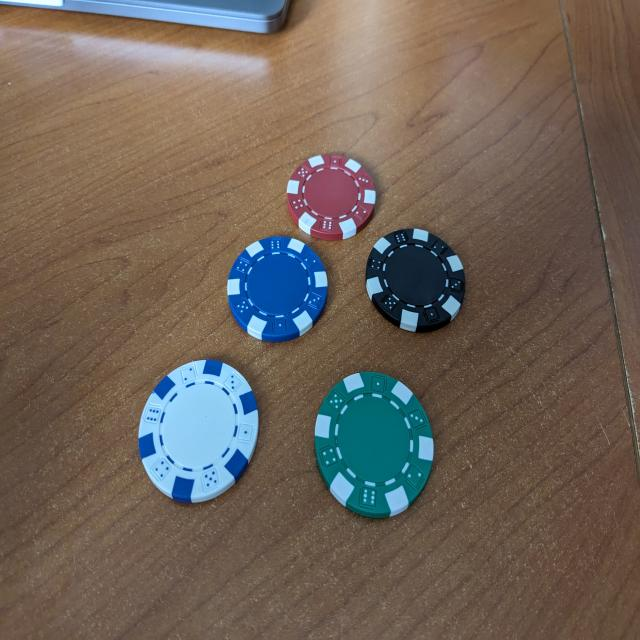black chip: (363, 228, 467, 335)
blue chip: (225, 236, 331, 345)
green chip: (313, 370, 435, 522)
red chip: (285, 154, 380, 244)
white chip: (135, 359, 261, 507)
